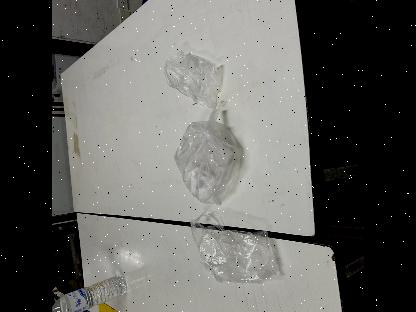Others: (178, 210, 286, 286), (169, 104, 245, 208), (158, 43, 226, 109)
